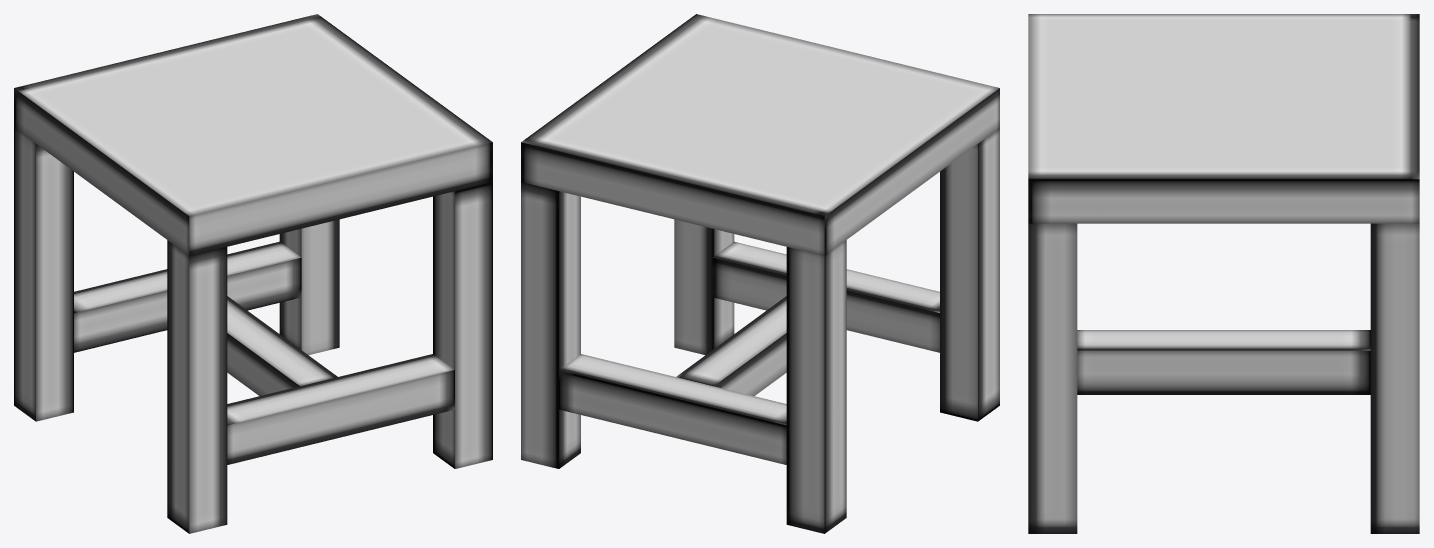
The model's file is powerarmor_workbench.obj.
3 views of the same model, side by side, from view 1: azimuth 30°, elevation 25°; view 2: azimuth 150°, elevation 25°; view 3: azimuth 270°, elevation 25° (orthographic). The views are drawn at different scales.
Visible parts, largest first — view 1: top, leg4, leg3, leg2, brace1, brace2, leg1, brace3; view 2: top, leg3, leg4, leg1, brace2, brace1, leg2, brace3; view 3: top, brace3, leg1, leg2.
Part boxes in pixels (left/top/right/bottom): top: left=14, top=14, right=492, bottom=255; leg4: left=167, top=240, right=227, bottom=533; leg3: left=14, top=128, right=73, bottom=421; leg2: left=433, top=182, right=492, bottom=468; brace1: left=227, top=354, right=454, bottom=464; brace2: left=74, top=241, right=301, bottom=352; leg1: left=279, top=219, right=339, bottom=355; brace3: left=227, top=296, right=337, bottom=395; top: left=521, top=14, right=999, bottom=255; leg3: left=786, top=240, right=846, bottom=533; leg4: left=940, top=128, right=999, bottom=421; leg1: left=521, top=182, right=580, bottom=468; brace2: left=559, top=354, right=786, bottom=464; brace1: left=712, top=241, right=939, bottom=352; leg2: left=674, top=219, right=734, bottom=355; brace3: left=676, top=296, right=786, bottom=395; top: left=1028, top=14, right=1419, bottom=223; brace3: left=1077, top=330, right=1370, bottom=394; leg1: left=1370, top=223, right=1419, bottom=533; leg2: left=1028, top=223, right=1077, bottom=533.
Size of the model in its own units: 1 by 1 by 1.
